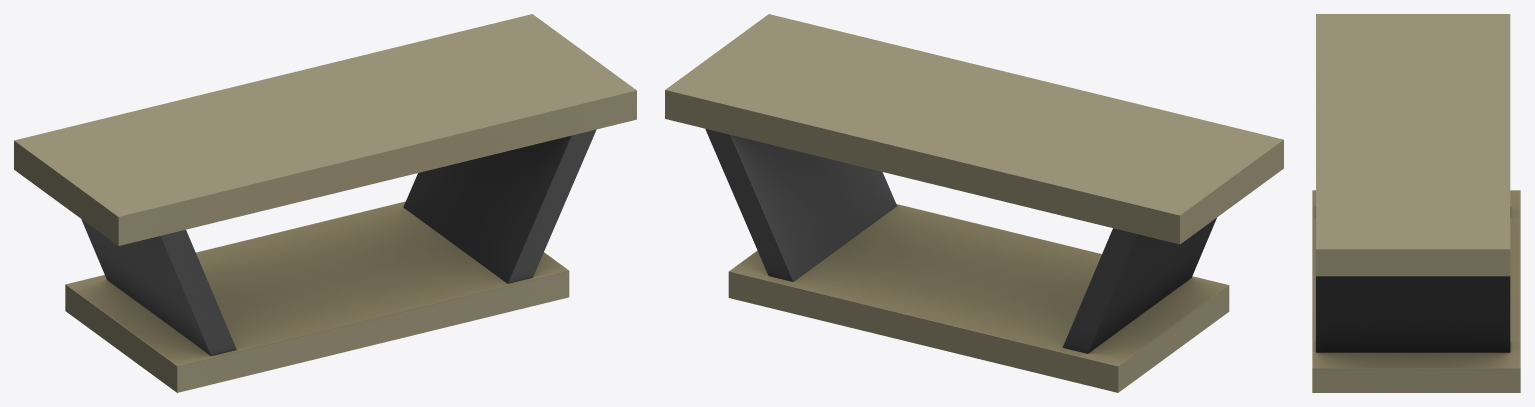
The model's file is Boss Dinner Table.fbx.
3 renders of one model, left to right at view 1: azimuth 30°, elevation 25°; view 2: azimuth 150°, elevation 25°; view 3: azimuth 270°, elevation 25°, orthographic. The views are drawn at different scales.
Visible parts, largest first — view 1: Dinner_table; view 2: Dinner_table; view 3: Dinner_table.
Boxes of the visible parts, bbox=[...] form: Dinner_table: bbox=[14, 14, 636, 392]; Dinner_table: bbox=[665, 14, 1283, 392]; Dinner_table: bbox=[1312, 14, 1520, 392].
Size of the model in its own units: 93.23 by 32.38 by 34.86.
1 material, 1 textured.
